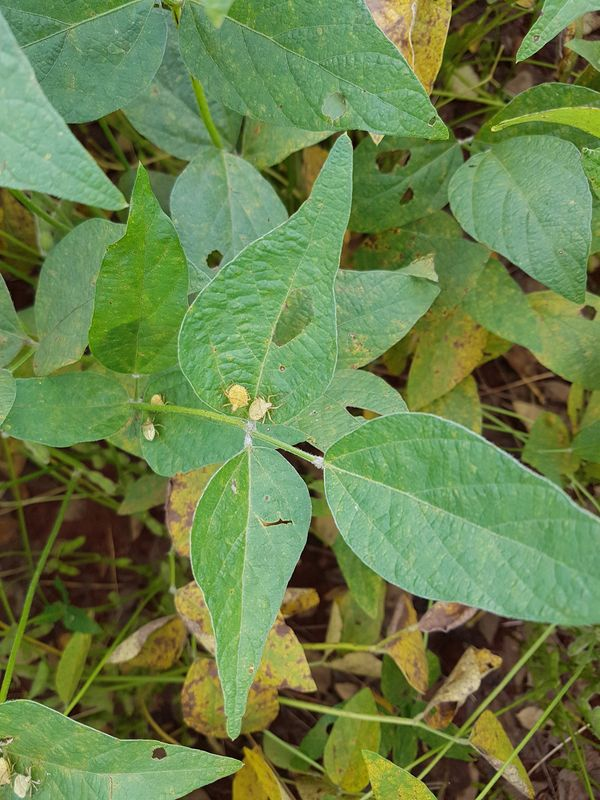Euschistus_heros_ninfa: (248, 389, 288, 430), (13, 762, 43, 800), (217, 380, 248, 414), (137, 414, 167, 445), (142, 389, 172, 413)
